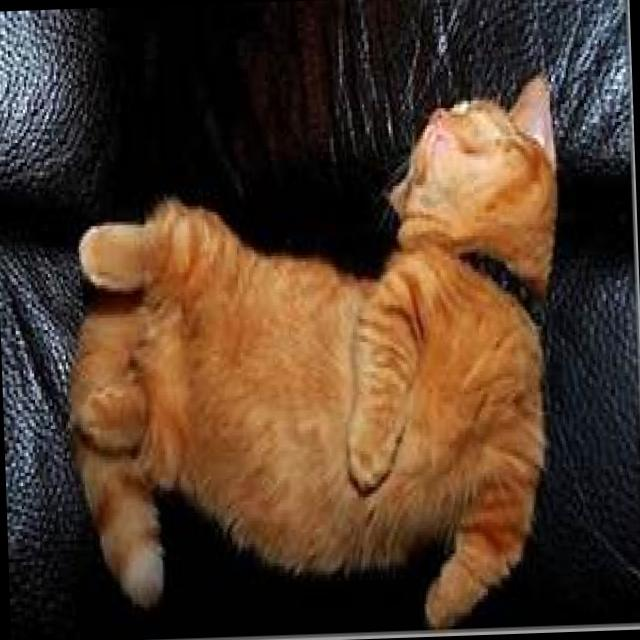cat: (53, 67, 574, 638)
